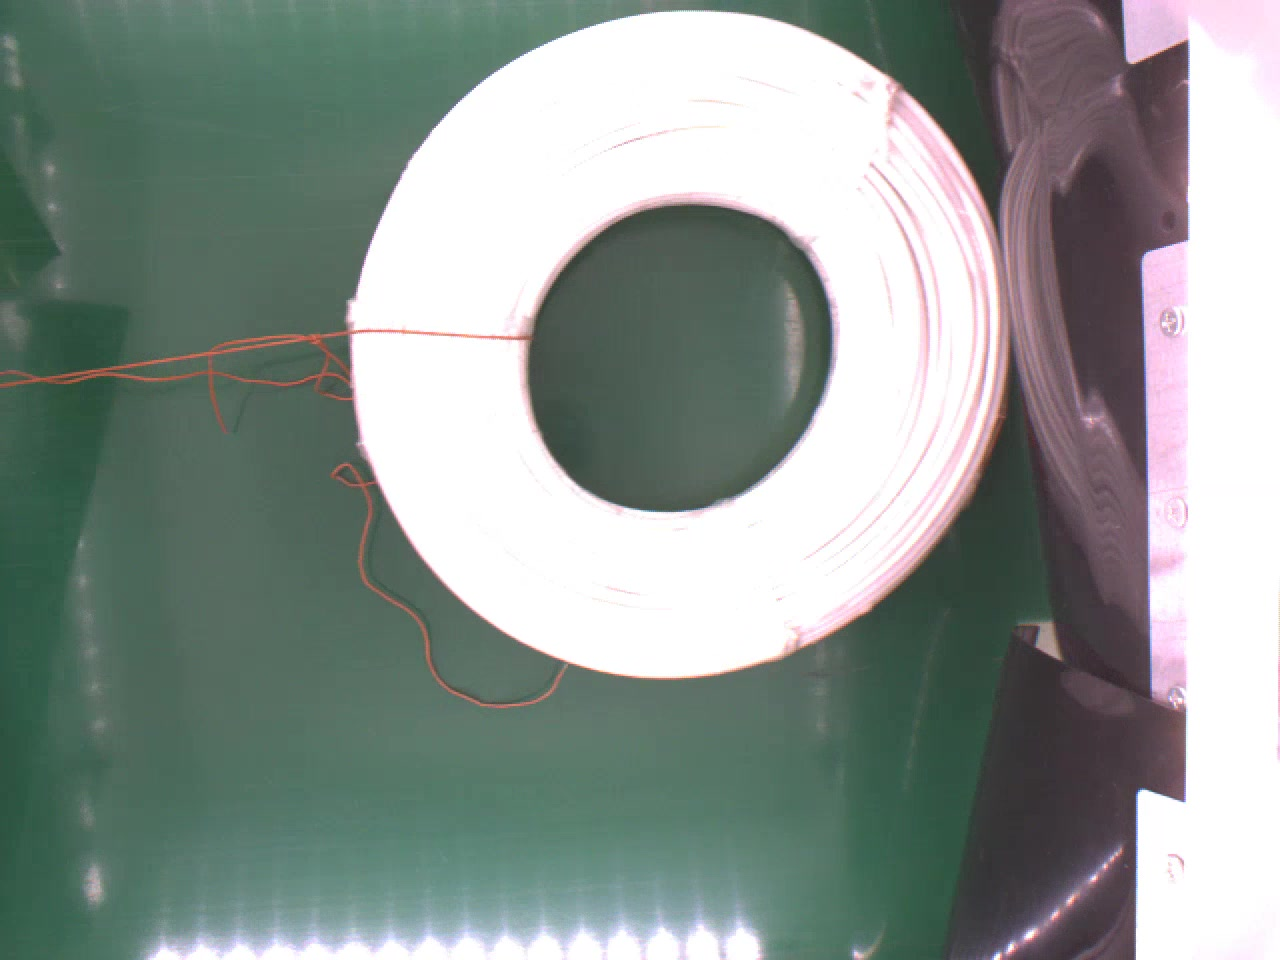white: (339, 5, 1011, 679)
